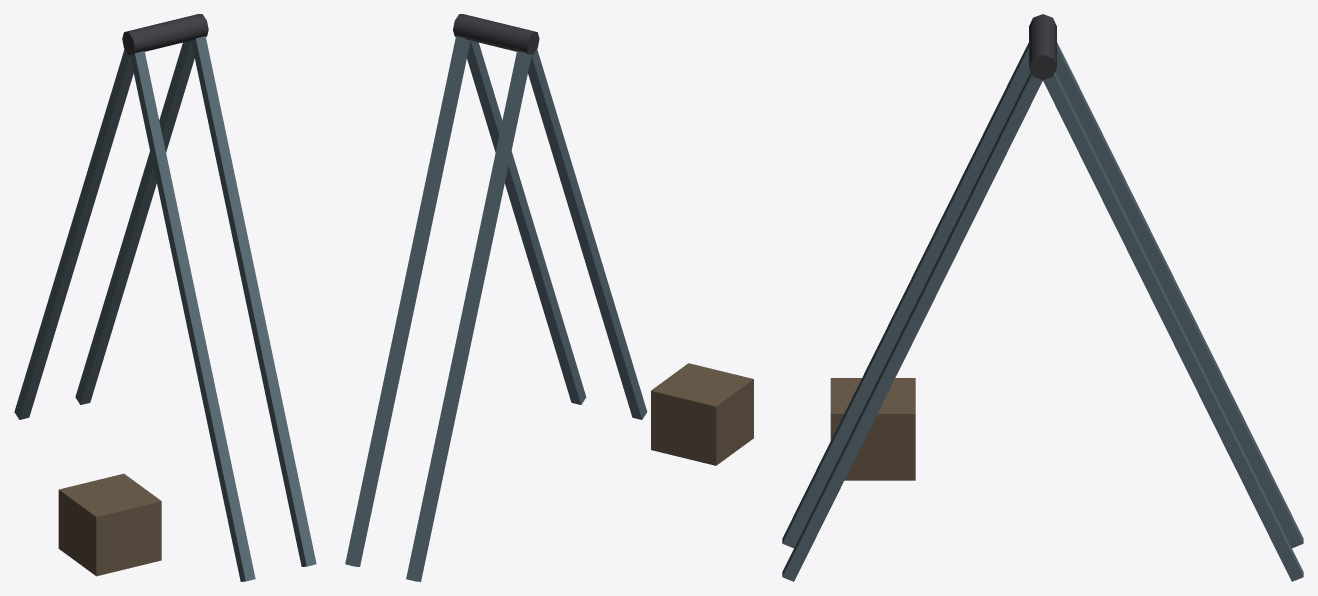
Rendered from mark-wheel.glb.
3 renders of one model, left to right at view 1: azimuth 30°, elevation 25°; view 2: azimuth 150°, elevation 25°; view 3: azimuth 270°, elevation 25°, orthographic. The views are drawn at different scales.
Visible parts, largest first — view 1: 01_#5a6e78_noshadow, 00_#6a5a48, 02_#3a3a40; view 2: 01_#5a6e78_noshadow, 00_#6a5a48, 02_#3a3a40; view 3: 01_#5a6e78_noshadow, 00_#6a5a48, 02_#3a3a40.
Boxes of the visible parts, x1,y1,x2,y2 form: 01_#5a6e78_noshadow: [14, 36, 316, 581]; 00_#6a5a48: [58, 473, 161, 576]; 02_#3a3a40: [122, 14, 208, 54]; 01_#5a6e78_noshadow: [345, 36, 647, 581]; 00_#6a5a48: [651, 363, 753, 465]; 02_#3a3a40: [453, 14, 539, 54]; 01_#5a6e78_noshadow: [782, 42, 1303, 581]; 00_#6a5a48: [830, 378, 915, 480]; 02_#3a3a40: [1029, 14, 1056, 79].
Bounding box in the file's own units: 9.2 × 20.59 × 18.41.
